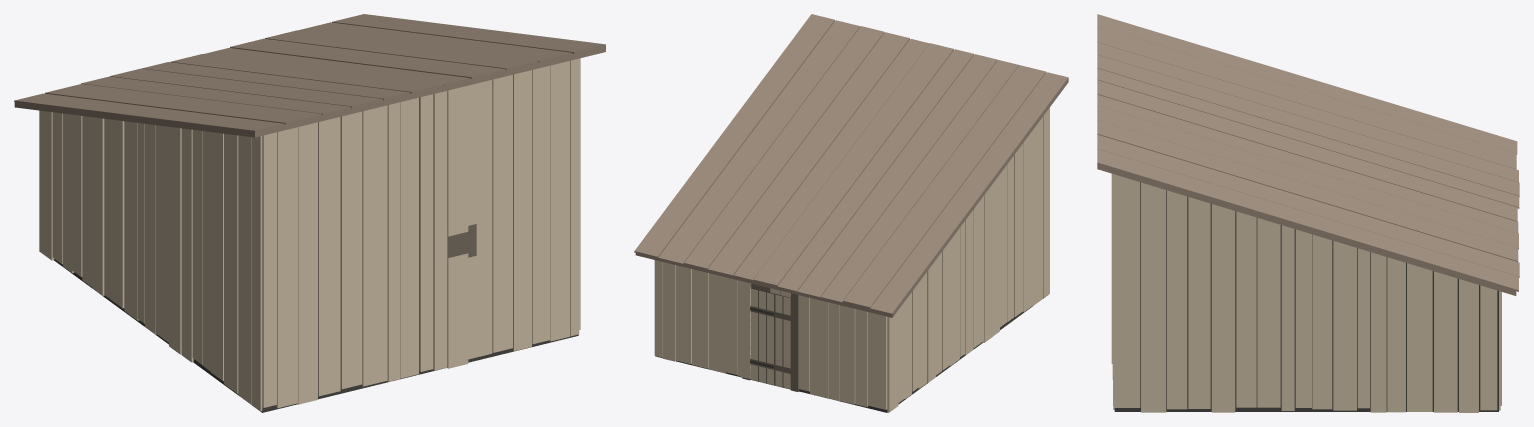
The model's file is recon_1835_blk_randolph_dearborn_d2_05__inferred_1835.glb.
The picture shows the model from 3 angles, left to right: view 1: azimuth 30°, elevation 25°; view 2: azimuth 150°, elevation 25°; view 3: azimuth 270°, elevation 25°; orthographic projection. The views are drawn at different scales.
Visible parts, largest first — view 1: recon_1835_blk_randolph_dearborn_d2_05__inferred_1835; view 2: recon_1835_blk_randolph_dearborn_d2_05__inferred_1835; view 3: recon_1835_blk_randolph_dearborn_d2_05__inferred_1835.
Boxes of the visible parts, bbox=[...] form: recon_1835_blk_randolph_dearborn_d2_05__inferred_1835: bbox=[14, 14, 605, 412]; recon_1835_blk_randolph_dearborn_d2_05__inferred_1835: bbox=[634, 14, 1068, 412]; recon_1835_blk_randolph_dearborn_d2_05__inferred_1835: bbox=[1097, 14, 1519, 412].
Bounding box in the file's own units: 5.45 × 4.37 × 6.51.
